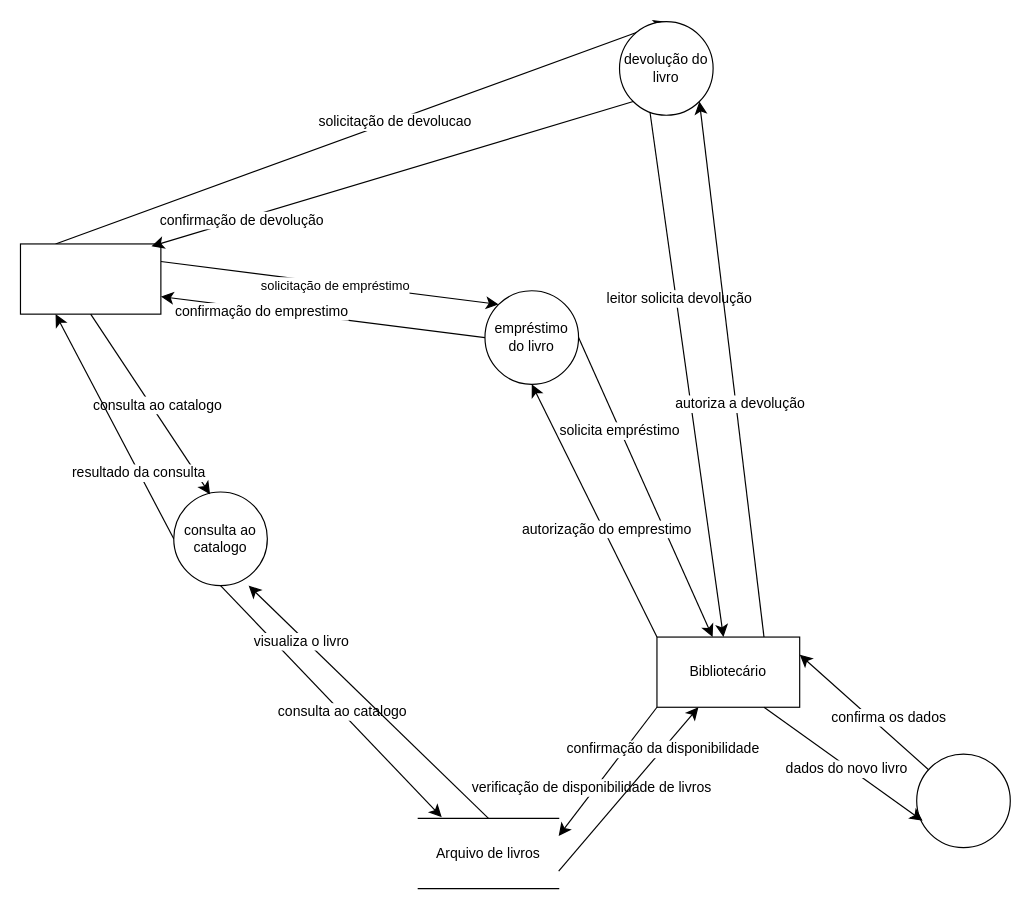
This 1031x909 diagram has some shape labels left out. Each missing label, with the centre of its shape:
"Leitor" belongs at (x=90, y=278).
"registo de novo livro" belongs at (x=963, y=800).
